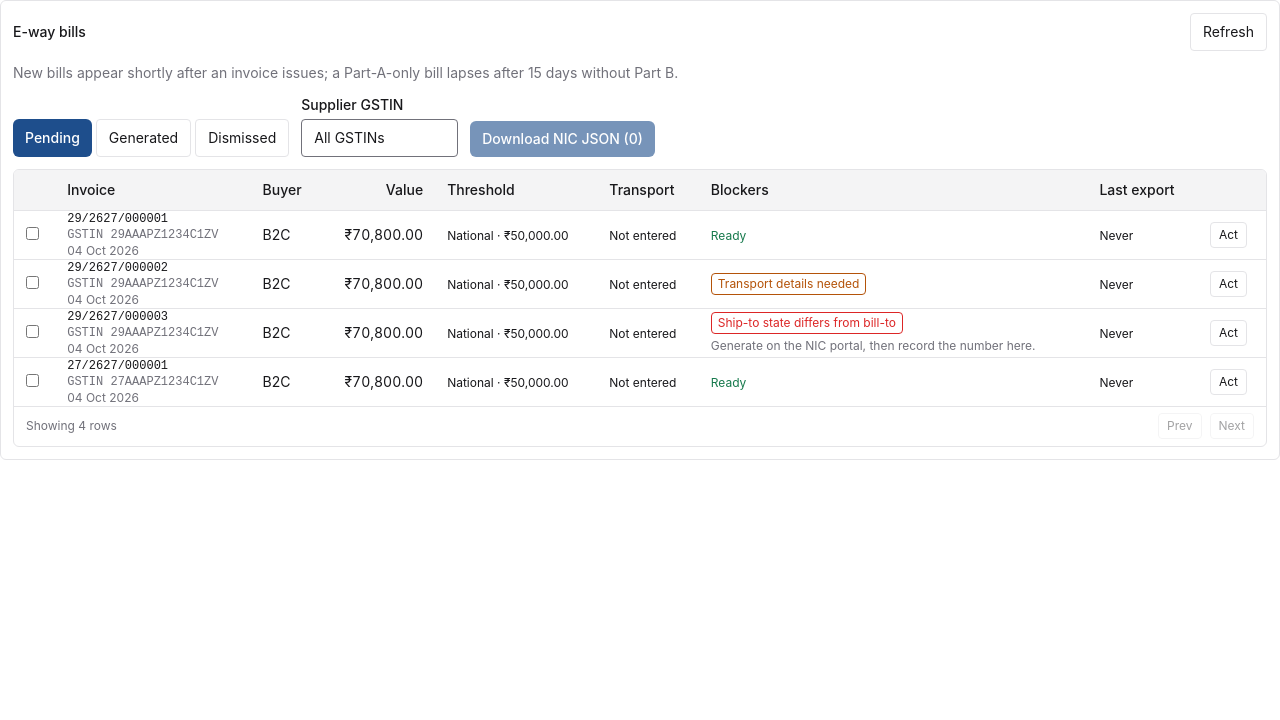
Test case: the e-way bills section › a 409 eway-not-exportable names each refused bill and its reasons
Click the checkbox named "Select 29/2627/000001": {"x": 32, "y": 233} top-left (26, 226), bottom-right (39, 240)
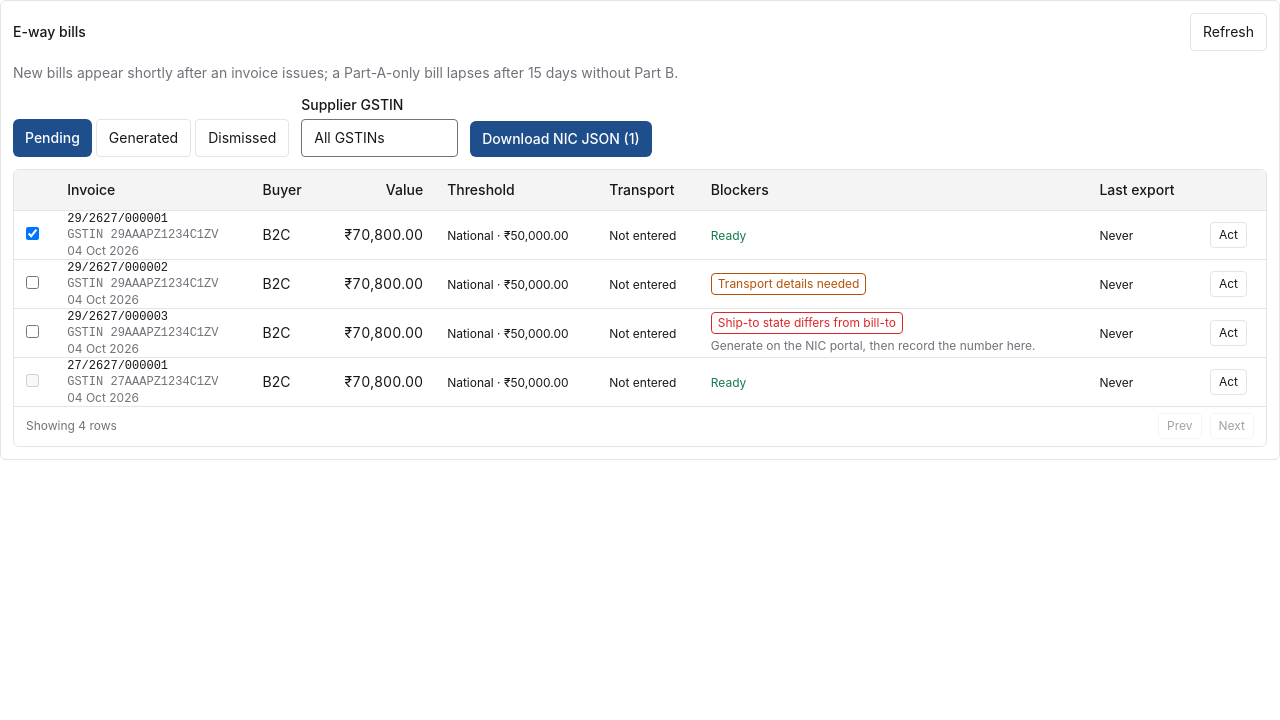
Click the button "Download NIC JSON (1)": {"x": 561, "y": 139} top-left (470, 121), bottom-right (652, 157)
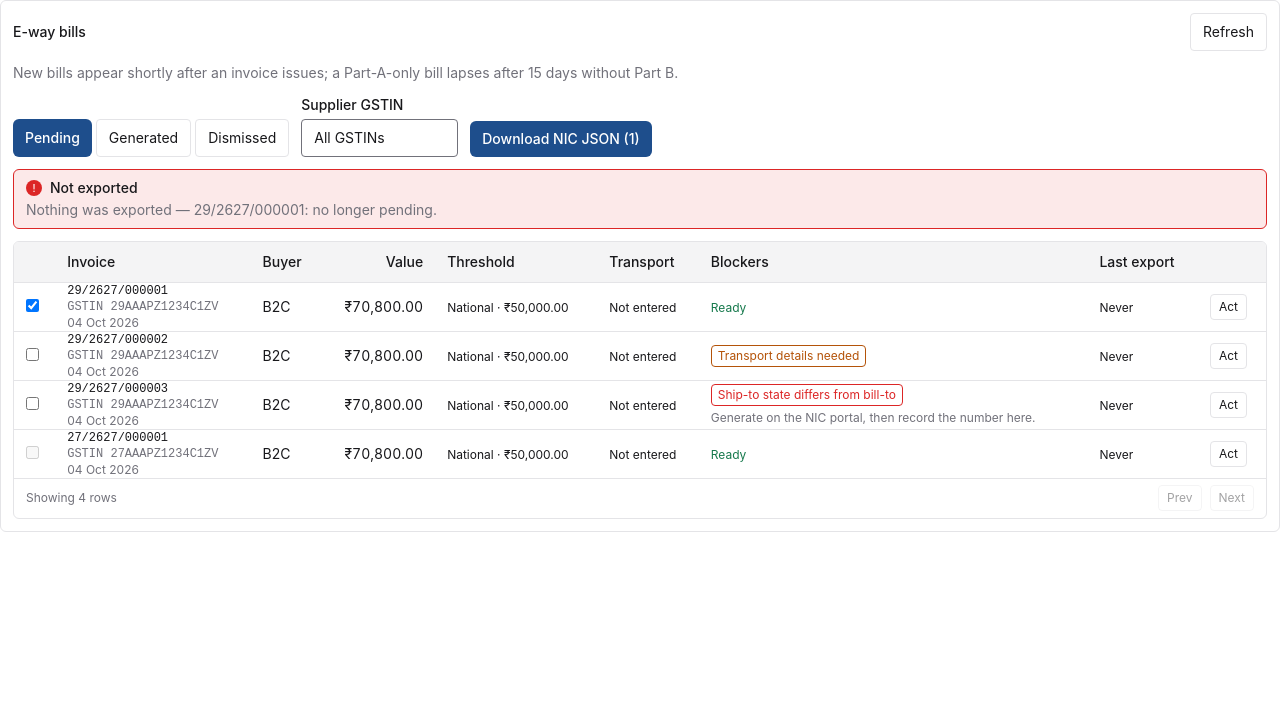
Check: the text "Nothing was exported — 29/2627/000001: no longer pending." is shown, box top-left (26, 201), bottom-right (437, 218)
